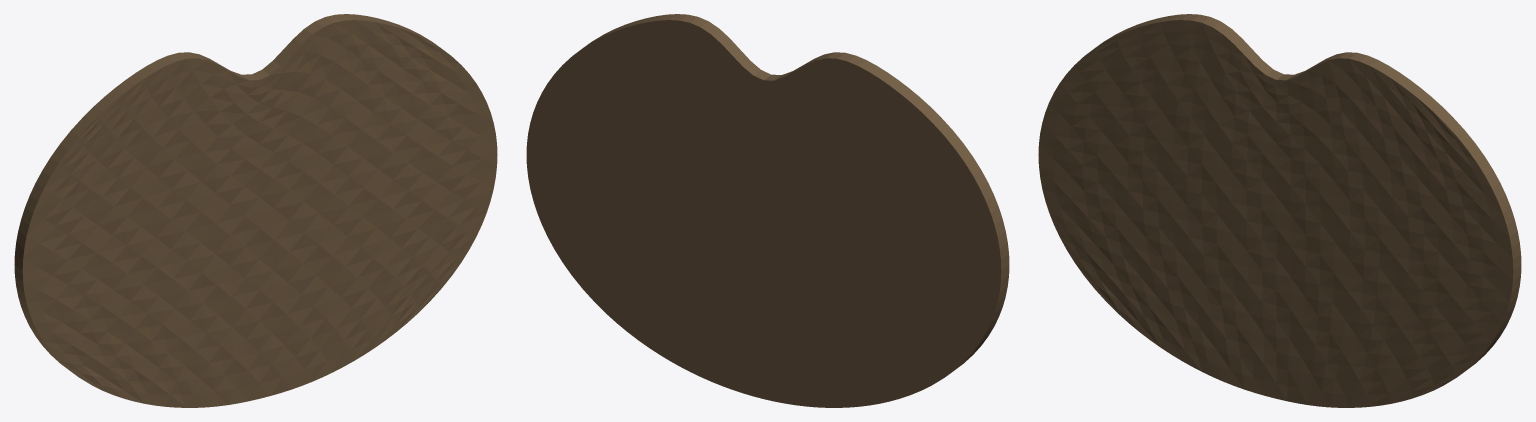
Rendered from protosalvinia.glb.
3 renders of one model, left to right at view 1: azimuth 30°, elevation 25°; view 2: azimuth 150°, elevation 25°; view 3: azimuth 330°, elevation 25°, orthographic.
Parts seen in each view (by area): view 1: single-bilobed-compression; view 2: single-bilobed-compression; view 3: single-bilobed-compression.
Part boxes in pixels (bbox=[...]): single-bilobed-compression: bbox=[14, 14, 497, 407]; single-bilobed-compression: bbox=[526, 14, 1009, 407]; single-bilobed-compression: bbox=[1038, 14, 1521, 407].
Size of the model in its own units: 0.006 by 0.00433 by 0.000186.
